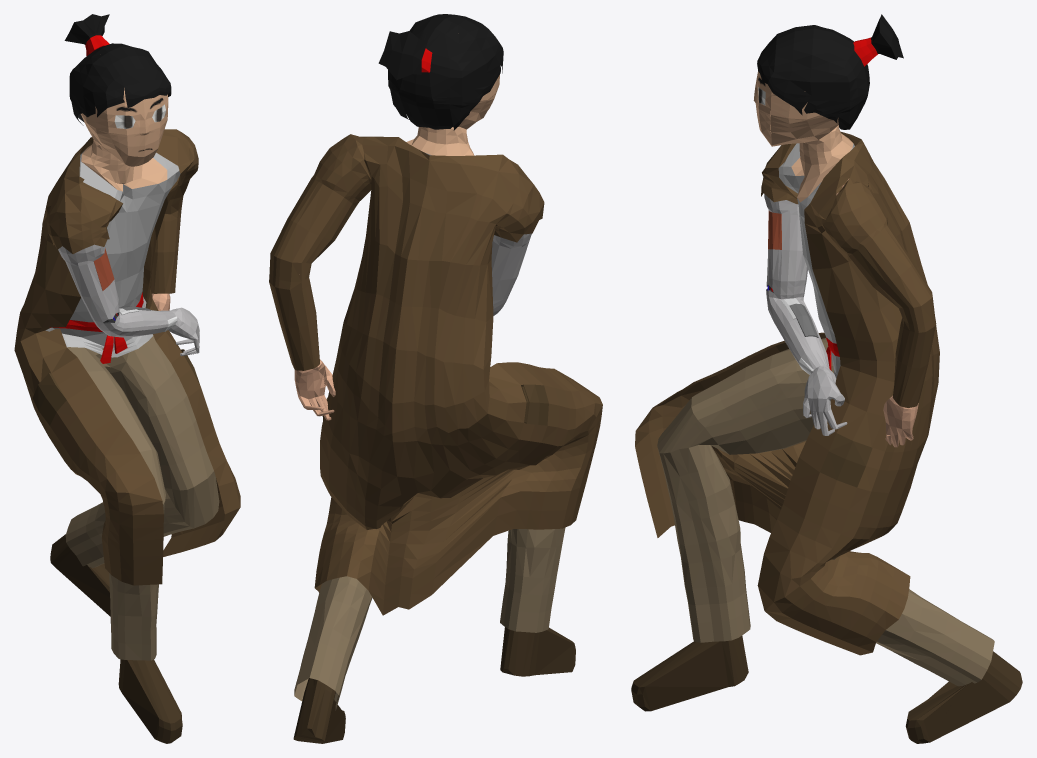
Rendered from One_DB_000004.obj.
The picture shows the model from 3 angles, left to right: view 1: azimuth 30°, elevation 25°; view 2: azimuth 150°, elevation 25°; view 3: azimuth 270°, elevation 25°; orthographic projection. The views are drawn at different scales.
Parts seen in each view (by area): view 1: Hair_Cube.004; view 2: Hair_Cube.004; view 3: Hair_Cube.004.
Boxes of the visible parts, x1,y1,x2,y2 form: Hair_Cube.004: [14, 14, 240, 743]; Hair_Cube.004: [269, 14, 602, 743]; Hair_Cube.004: [631, 14, 1022, 743].
Bounding box in the file's own units: 1.09 × 3.49 × 1.76.
